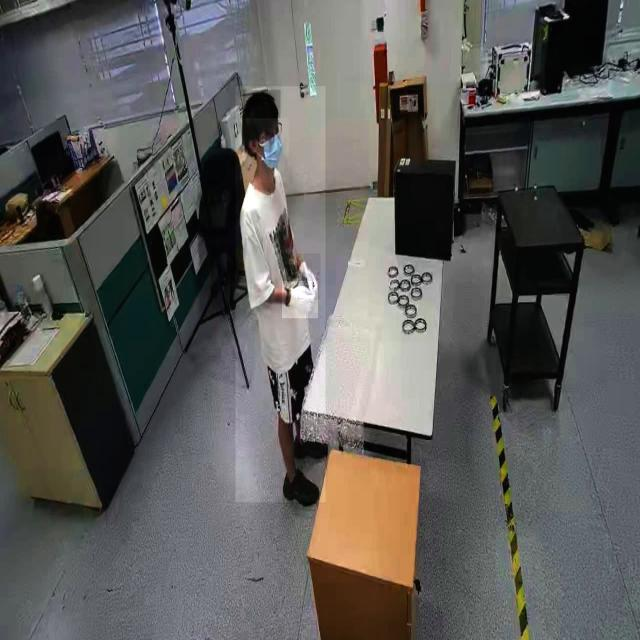face_mask: (259, 118, 289, 182)
glasses: (263, 120, 284, 144)
hand_glove: (282, 281, 318, 319), (297, 253, 321, 300)
head_nohelmet: (242, 90, 280, 119)
person: (235, 86, 325, 503)
shoes: (280, 462, 322, 515)
